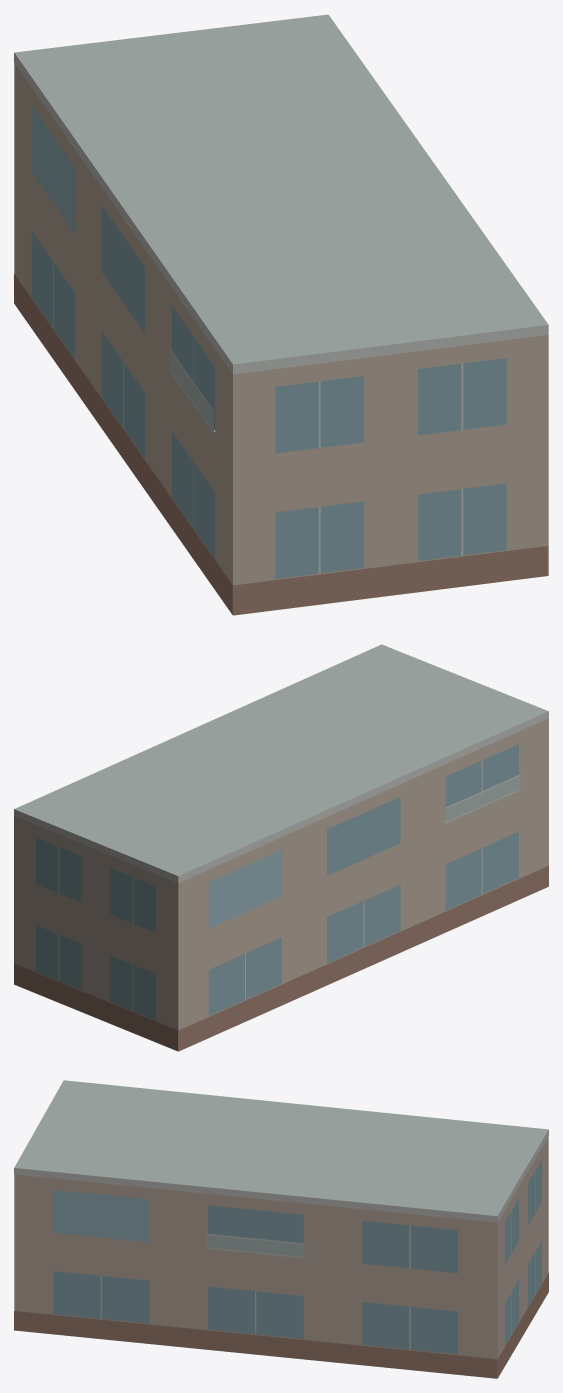
Rendered from survey-upis-32874439.glb.
3 views of the same model, one above another, from view 1: azimuth 30°, elevation 25°; view 2: azimuth 150°, elevation 25°; view 3: azimuth 270°, elevation 25° (orthographic). The views are drawn at different scales.
Parts seen in each view (by area): view 1: survey-upis-32874439.tmp; view 2: survey-upis-32874439.tmp; view 3: survey-upis-32874439.tmp.
Part boxes in pixels (x1,y1,x2,y2): survey-upis-32874439.tmp: (14, 14, 548, 615); survey-upis-32874439.tmp: (14, 644, 548, 1051); survey-upis-32874439.tmp: (14, 1080, 548, 1378).
Size of the model in its own units: 10.96 by 6.1 by 18.2.
